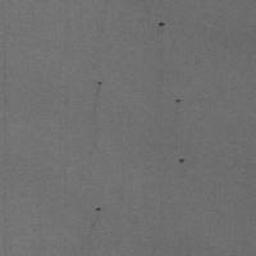Inclusion: (95, 79, 105, 86), (177, 157, 187, 164), (174, 97, 182, 105), (157, 22, 166, 28), (93, 206, 102, 212)
